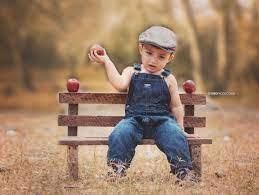child: (86, 23, 203, 184)
